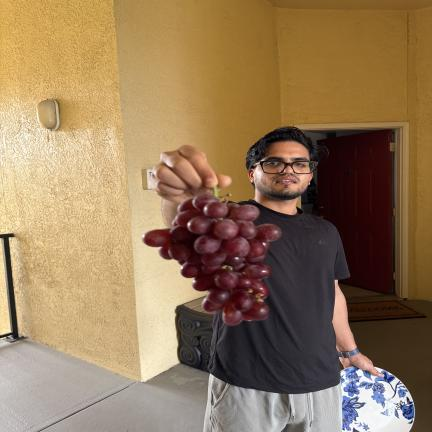grape_cluster: (143, 194, 281, 326), (214, 187, 217, 194)
